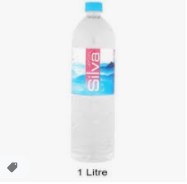Bottle: (71, 1, 116, 161)
